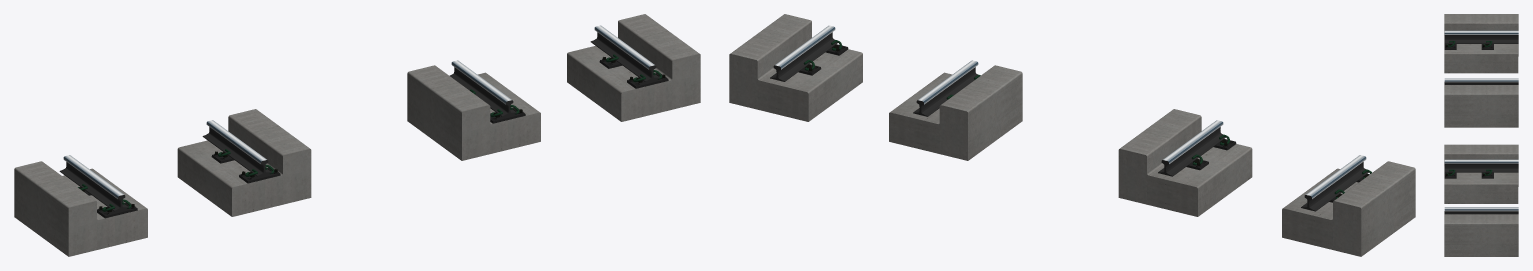
The model's file is 1 meter track  rail sepret mesh.fbx.
The picture shows the model from 3 angles, left to right: view 1: azimuth 30°, elevation 25°; view 2: azimuth 150°, elevation 25°; view 3: azimuth 270°, elevation 25°; orthographic projection. The views are drawn at different scales.
Visible parts, largest first — view 1: Rectangle011, Rectangle009, Line013, Line015, Rectangle012, Rectangle010, Line014, Line009, Rectangle007, Rectangle005, Rectangle006, Rectangle008; view 2: Rectangle011, Rectangle009, Line013, Line015, Rectangle012, Rectangle010, Line014, Line009, Rectangle005, Rectangle007, Rectangle006, Rectangle008; view 3: Rectangle010, Rectangle012, Line014, Line009, Rectangle009, Rectangle011, Rectangle006, Rectangle008, Rectangle007, Rectangle005, factenres024, factenres025 (+2 smaller).
Part boxes in pixels (x1,y1,x2,y2): Rectangle011: (407,65,490,160); Rectangle009: (14,161,96,256); Line013: (177,140,282,216); Line015: (567,46,672,121); Rectangle012: (618,14,700,109); Rectangle010: (228,109,311,204); Line014: (477,72,540,153); Line009: (62,168,147,249); Rectangle007: (590,25,659,81); Rectangle005: (202,120,271,176); Rectangle006: (59,155,128,211); Rectangle008: (449,60,516,116); Rectangle011: (939,65,1022,160); Rectangle009: (1333,161,1415,256); Line013: (1147,144,1252,216); Line015: (757,49,862,121); Rectangle012: (729,14,811,109); Rectangle010: (1118,109,1201,204); Line014: (889,72,952,153); Line009: (1282,168,1358,249); Rectangle005: (1158,120,1225,176); Rectangle007: (770,25,837,81); Rectangle006: (1301,155,1368,211); Rectangle008: (913,60,978,116); Rectangle010: (1444,85,1518,127); Rectangle012: (1444,214,1518,256); Line014: (1444,166,1518,203); Line009: (1444,35,1518,73); Rectangle009: (1444,14,1518,56); Rectangle011: (1444,144,1518,186); Rectangle006: (1444,30,1518,43); Rectangle008: (1444,159,1518,172); Rectangle007: (1444,207,1518,214); Rectangle005: (1444,78,1518,84); factenres024: (1444,169,1456,178); factenres025: (1481,169,1493,178).
Size of the model in its own units: 6.71 by 0.5003 by 1.
Materials: 7 (2 with a texture image).
